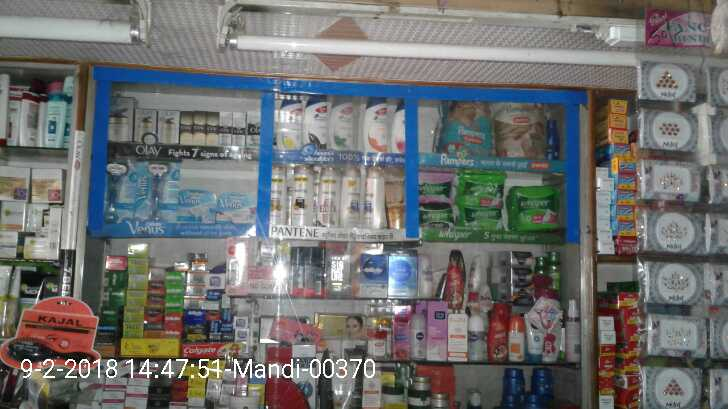gillete: (359, 253, 387, 300), (302, 246, 316, 299), (291, 246, 302, 299), (316, 245, 323, 300)
venus: (135, 160, 178, 219), (104, 157, 135, 219), (215, 194, 253, 219), (183, 191, 215, 219)
